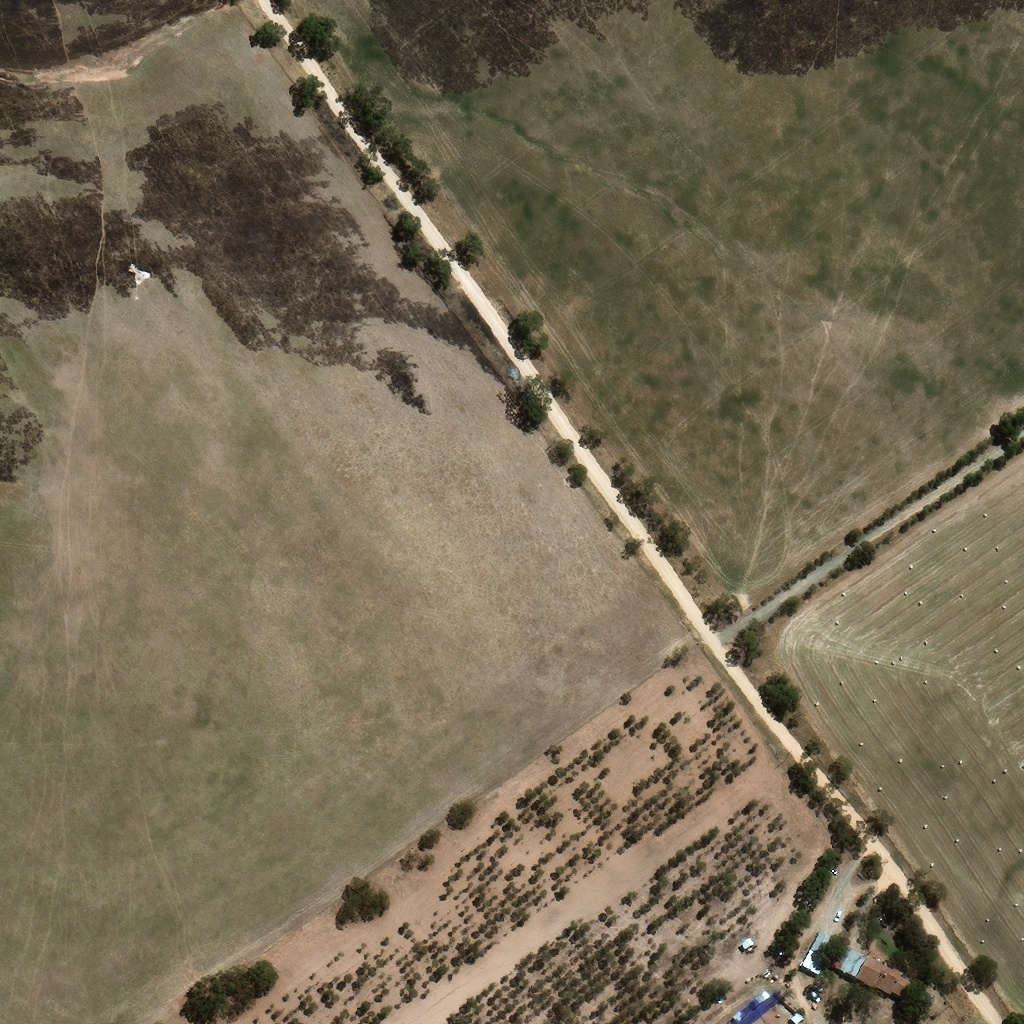0 no-damage: (831, 953, 912, 1005), (804, 939, 838, 982), (759, 998, 775, 1012), (743, 945, 757, 957)
